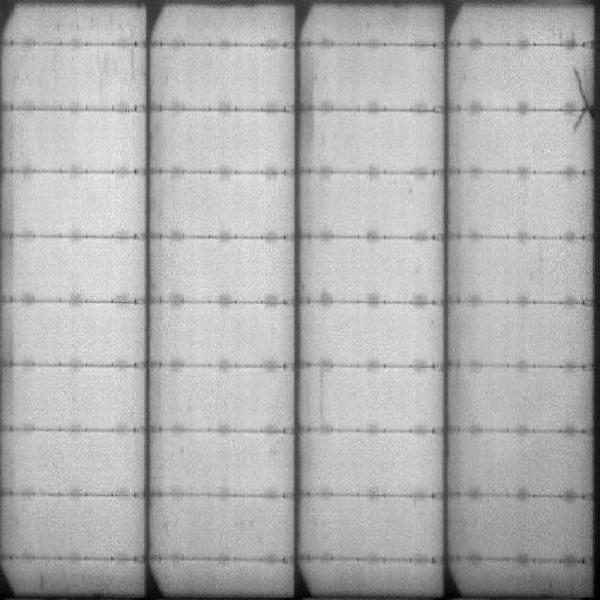broken: (567, 67, 595, 135)
